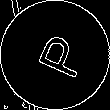P_NW: (24, 28, 86, 82)
